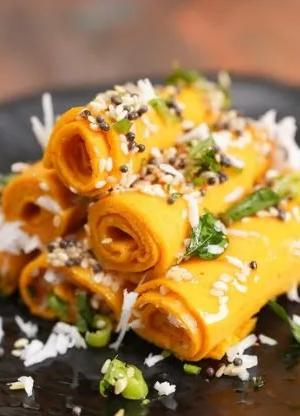khandvi: (19, 112, 300, 374)
